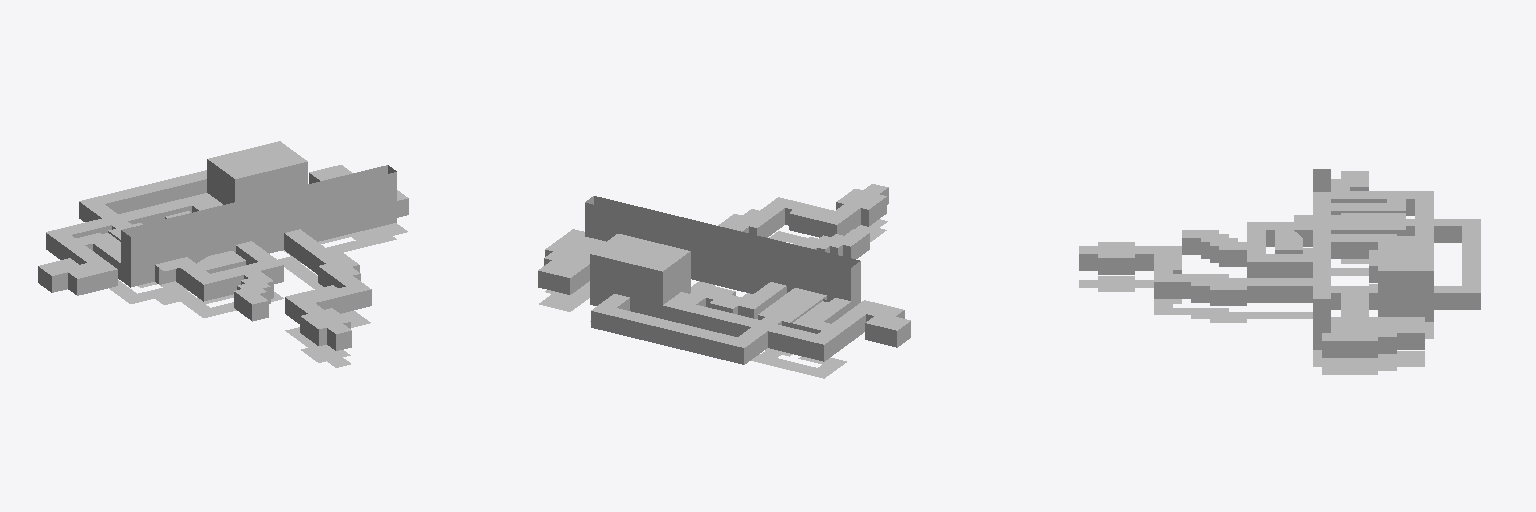
The model's file is Combined Mesh (root_ scene) #93260.obj.
The picture shows the model from 3 angles: view 1: azimuth 30°, elevation 25°; view 2: azimuth 150°, elevation 25°; view 3: azimuth 270°, elevation 25°; orthographic projection.
Parts seen in each view (by area): view 1: Combined Mesh (root: scene)_28, Combined Mesh (root: scene)_34, Combined Mesh (root: scene)_26, Combined Mesh (root: scene)_22, Combined Mesh (root: scene)_27, Combined Mesh (root: scene)_36, Combined Mesh (root: scene)_24, Combined Mesh (root: scene)_33, Combined Mesh (root: scene)_29, Combined Mesh (root: scene)_35; view 2: Combined Mesh (root: scene)_28, Combined Mesh (root: scene)_34, Combined Mesh (root: scene)_26, Combined Mesh (root: scene)_27, Combined Mesh (root: scene)_36, Combined Mesh (root: scene)_22, Combined Mesh (root: scene)_24, Combined Mesh (root: scene)_33, Combined Mesh (root: scene)_35, Combined Mesh (root: scene)_32; view 3: Combined Mesh (root: scene)_34, Combined Mesh (root: scene)_26, Combined Mesh (root: scene)_22, Combined Mesh (root: scene)_27, Combined Mesh (root: scene)_24, Combined Mesh (root: scene)_33, Combined Mesh (root: scene)_23, Combined Mesh (root: scene)_36, Combined Mesh (root: scene)_31, Combined Mesh (root: scene)_29, Combined Mesh (root: scene)_35, Combined Mesh (root: scene)_28.
Part boxes in pixels (x1,y1,x2,y2): Combined Mesh (root: scene)_28: (85,165,396,270); Combined Mesh (root: scene)_34: (46,165,407,333); Combined Mesh (root: scene)_26: (46,198,408,350); Combined Mesh (root: scene)_22: (109,223,407,367); Combined Mesh (root: scene)_27: (38,179,273,321); Combined Mesh (root: scene)_36: (207,159,307,204); Combined Mesh (root: scene)_24: (79,170,272,304); Combined Mesh (root: scene)_33: (208,141,307,178); Combined Mesh (root: scene)_29: (180,246,283,301); Combined Mesh (root: scene)_35: (39,245,116,278); Combined Mesh (root: scene)_28: (585,196,860,300); Combined Mesh (root: scene)_34: (538,184,888,344); Combined Mesh (root: scene)_26: (590,188,888,361); Combined Mesh (root: scene)_27: (591,233,910,364); Combined Mesh (root: scene)_36: (590,251,690,304); Combined Mesh (root: scene)_22: (539,219,887,378); Combined Mesh (root: scene)_24: (591,229,868,347); Combined Mesh (root: scene)_33: (590,234,689,271); Combined Mesh (root: scene)_35: (832,300,910,330); Combined Mesh (root: scene)_32: (538,271,569,294); Combined Mesh (root: scene)_34: (1079,191,1433,340); Combined Mesh (root: scene)_26: (1079,199,1433,349); Combined Mesh (root: scene)_22: (1079,248,1433,374); Combined Mesh (root: scene)_27: (1182,187,1480,309); Combined Mesh (root: scene)_24: (1182,219,1480,292); Combined Mesh (root: scene)_33: (1378,236,1433,270); Combined Mesh (root: scene)_23: (1313,192,1330,298); Combined Mesh (root: scene)_36: (1378,271,1433,304); Combined Mesh (root: scene)_31: (1322,333,1424,357); Combined Mesh (root: scene)_29: (1247,230,1312,277); Combined Mesh (root: scene)_35: (1331,171,1386,198); Combined Mesh (root: scene)_28: (1313,169,1330,332).
Size of the model in its own units: 43 by 8 by 43.